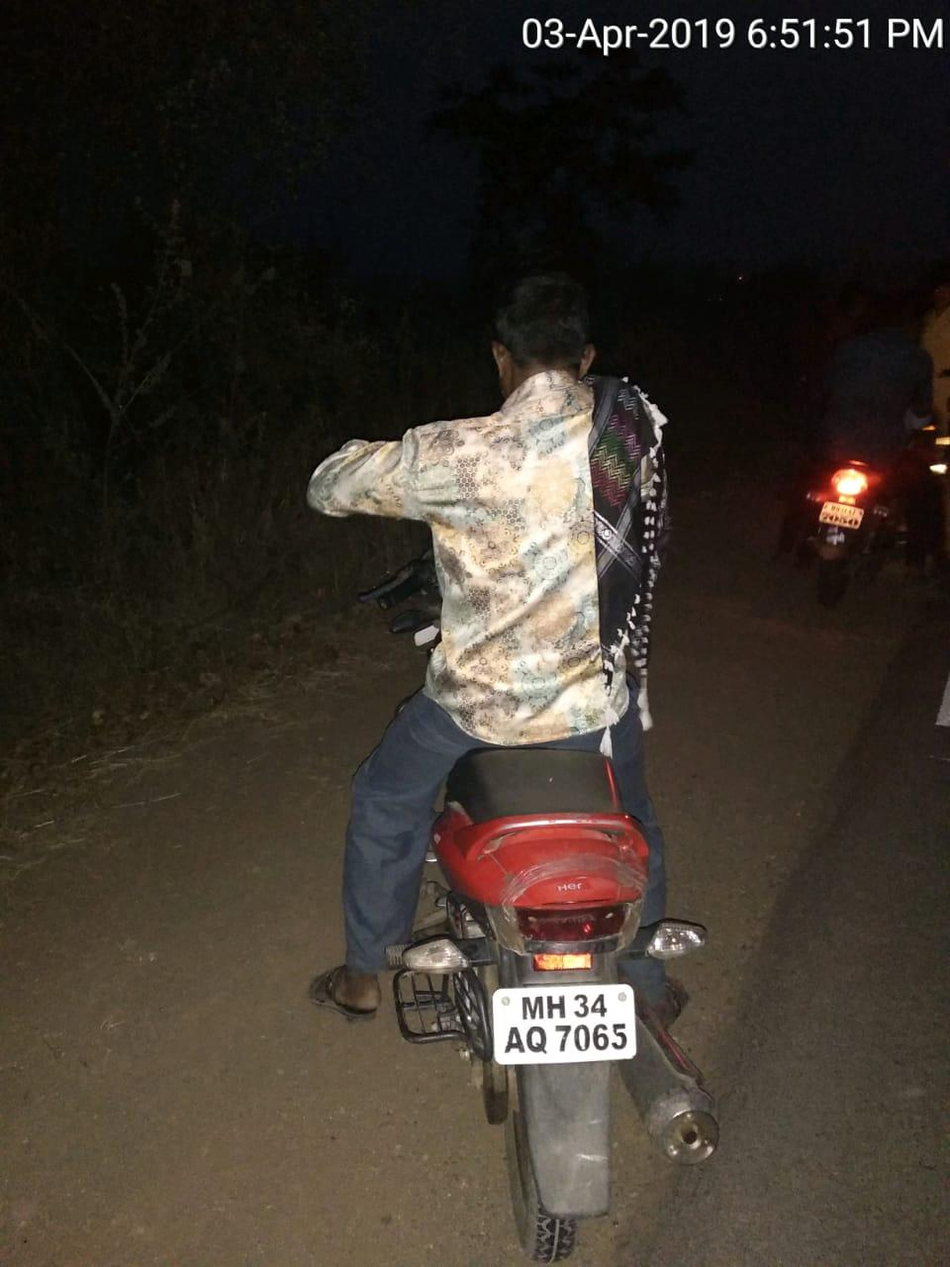plate: (469, 969, 664, 1092)
